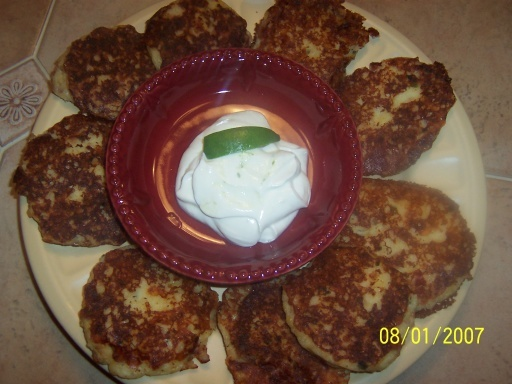background: (6, 1, 382, 230)
